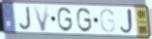G: (99, 7, 117, 34), (76, 6, 93, 34), (57, 6, 74, 33)
J: (118, 7, 136, 36), (18, 5, 33, 31)
V: (32, 5, 51, 33)
